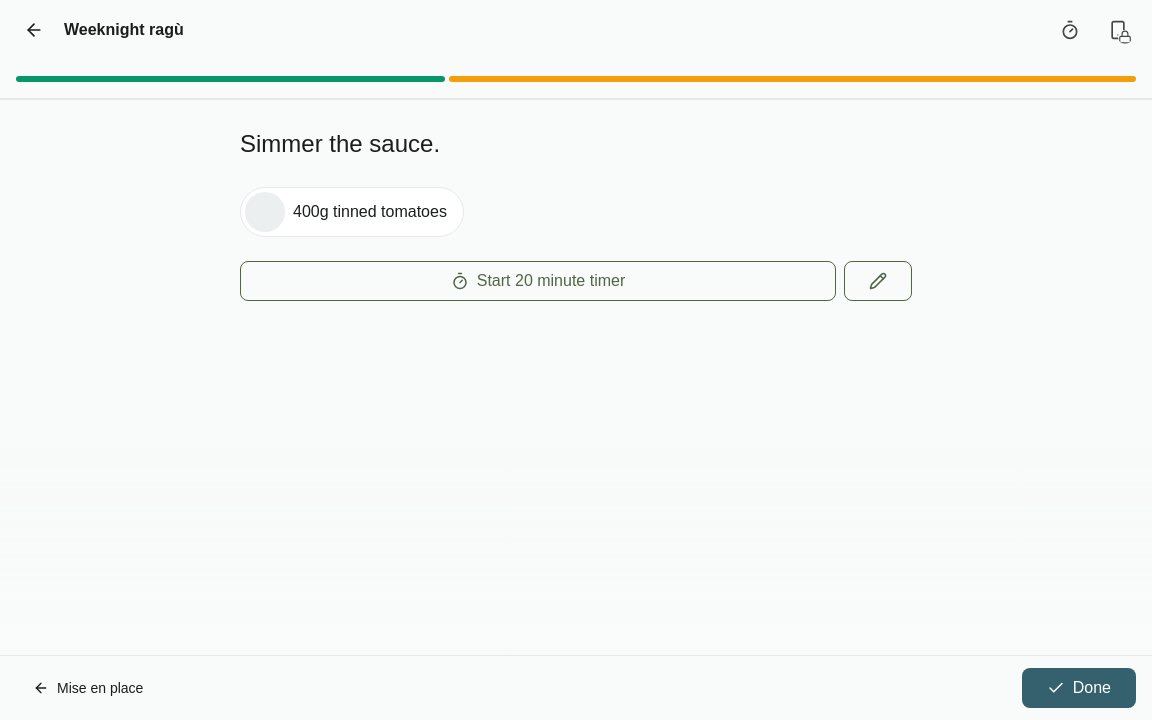
Test: CookModePage — starting a cook › offers to continue rather than to start once a step is already ticked
Click the button with test id "cook-stage-back". click: (88, 688)
box: [16,670,160,706]
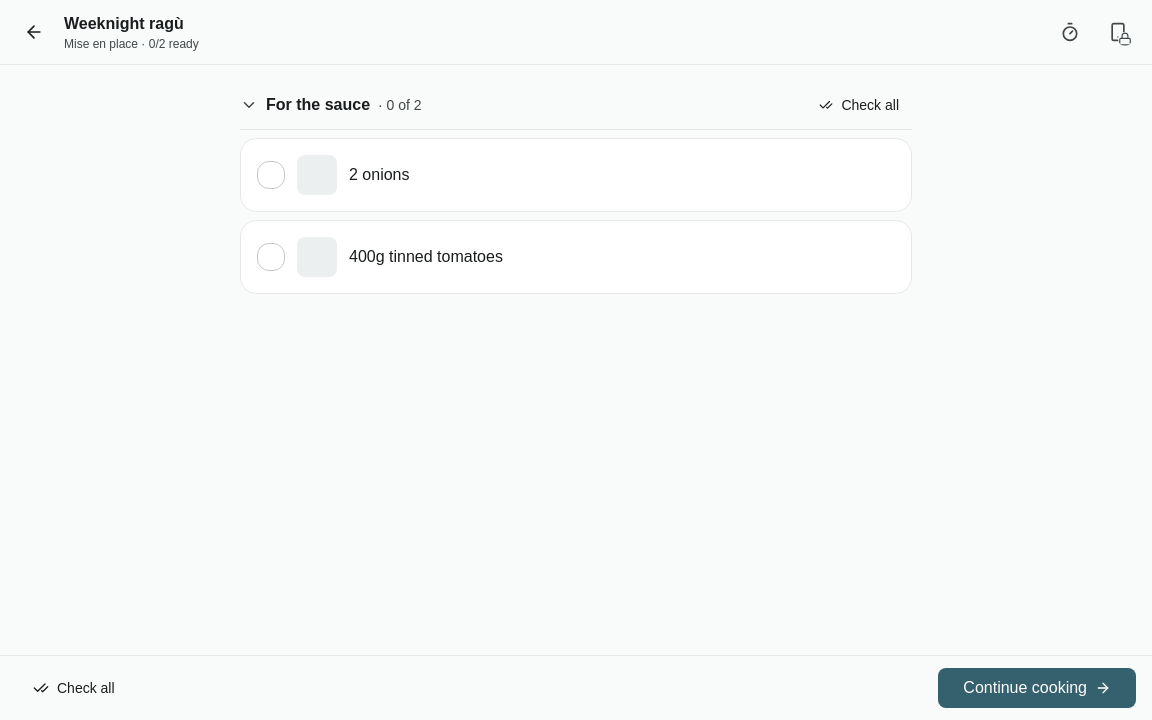
Result: the button with test id "cook-stage-toggle" reads "Continue cooking" at [938,668,1136,708]
